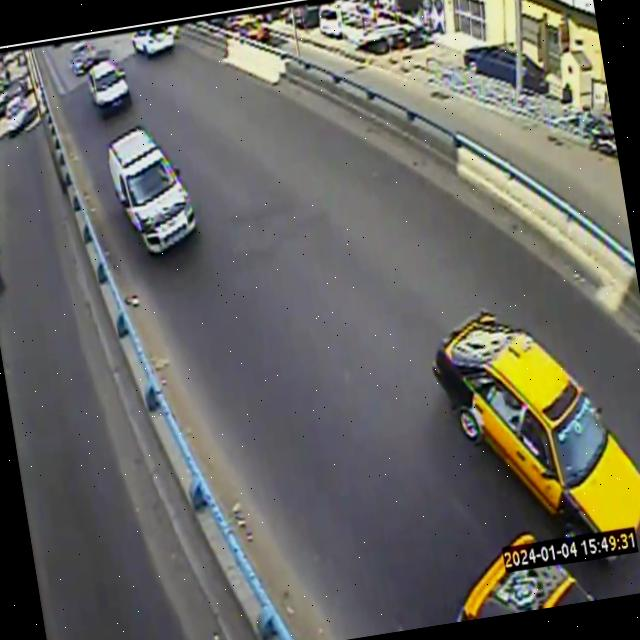car: (432, 311, 640, 535), (107, 126, 196, 253), (457, 553, 594, 621), (88, 61, 131, 116), (131, 26, 176, 57), (70, 42, 98, 76), (509, 534, 543, 558)
